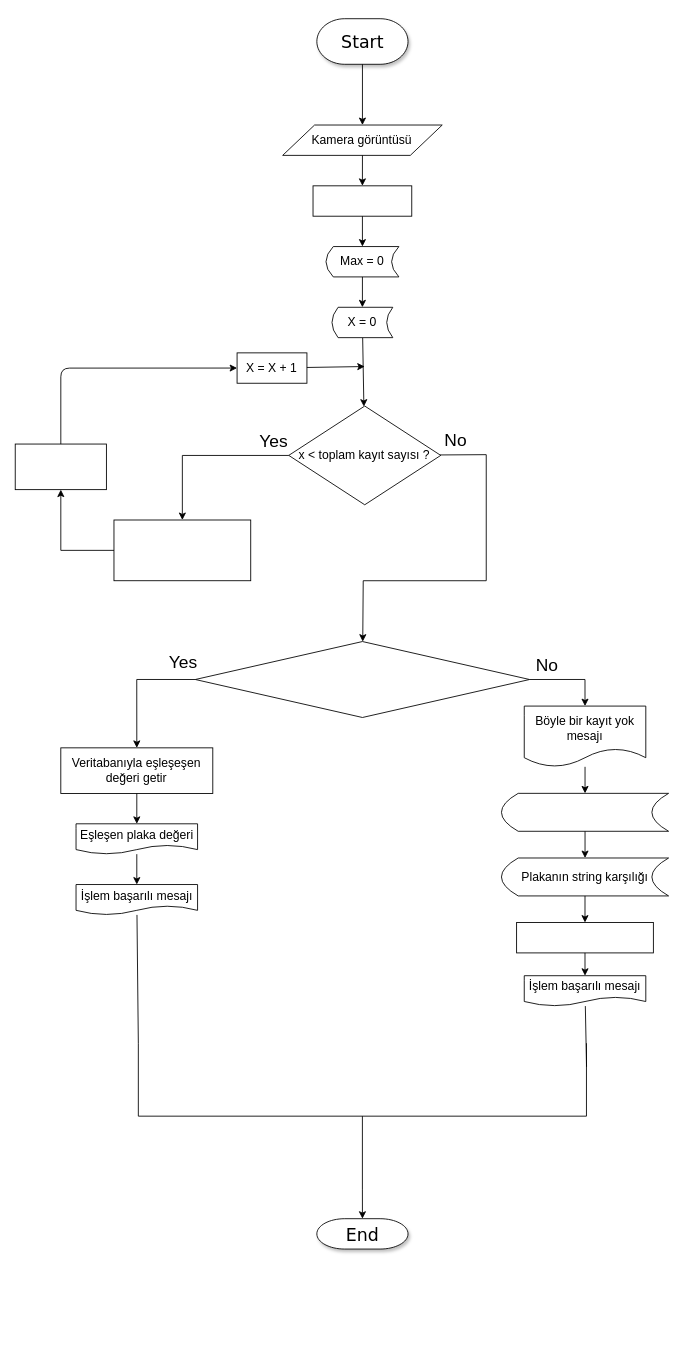
Image size: 684x1355. Some labels were removed from this diagram. Here are the shapes that lost their labels. From the top down, the centre of each, then its label:
At [362,200]: "Plakayı seç".
At [60,466]: "Max değerini güncelle".
At [182,550]: "Önceki kayıtların olduğu veritabanındaki verilerle karşılaştır".
At [362,679]: "Veritabanında daha önce böyle bir kayıt var mı?".
At [585,811]: "Canlı görüntünün ekran görüntüsü".
At [584,937]: "Yeni plaka kaydı ekle".
